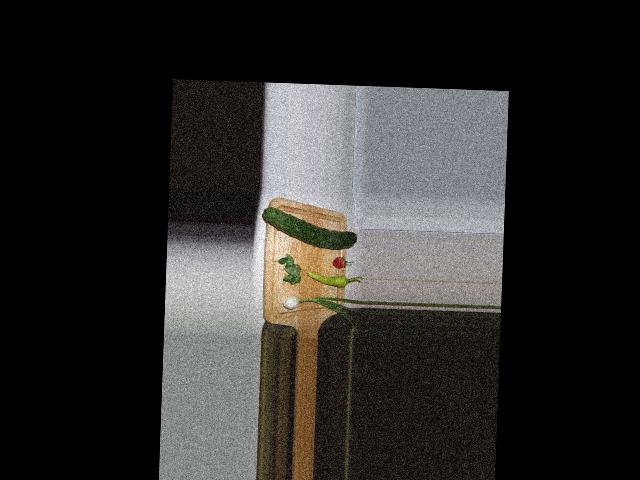cucumber: (262, 206, 357, 249)
